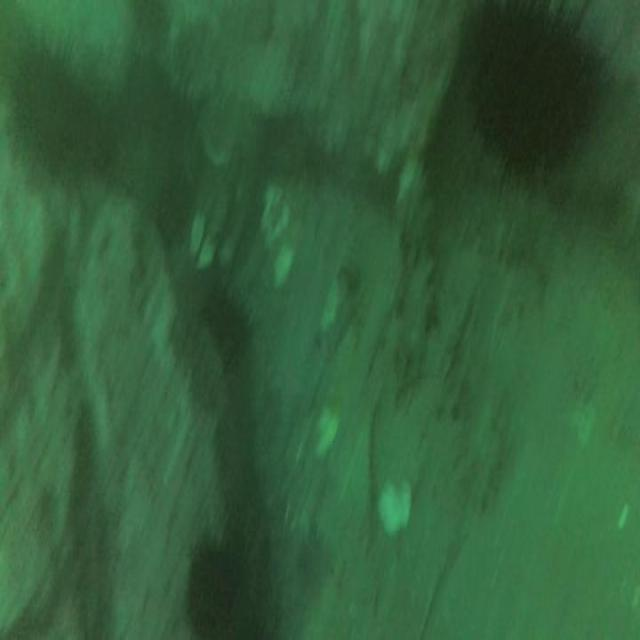echinus: (464, 2, 616, 210), (13, 27, 98, 174), (177, 529, 247, 640), (194, 280, 260, 374)
holothurian: (391, 162, 441, 396)
